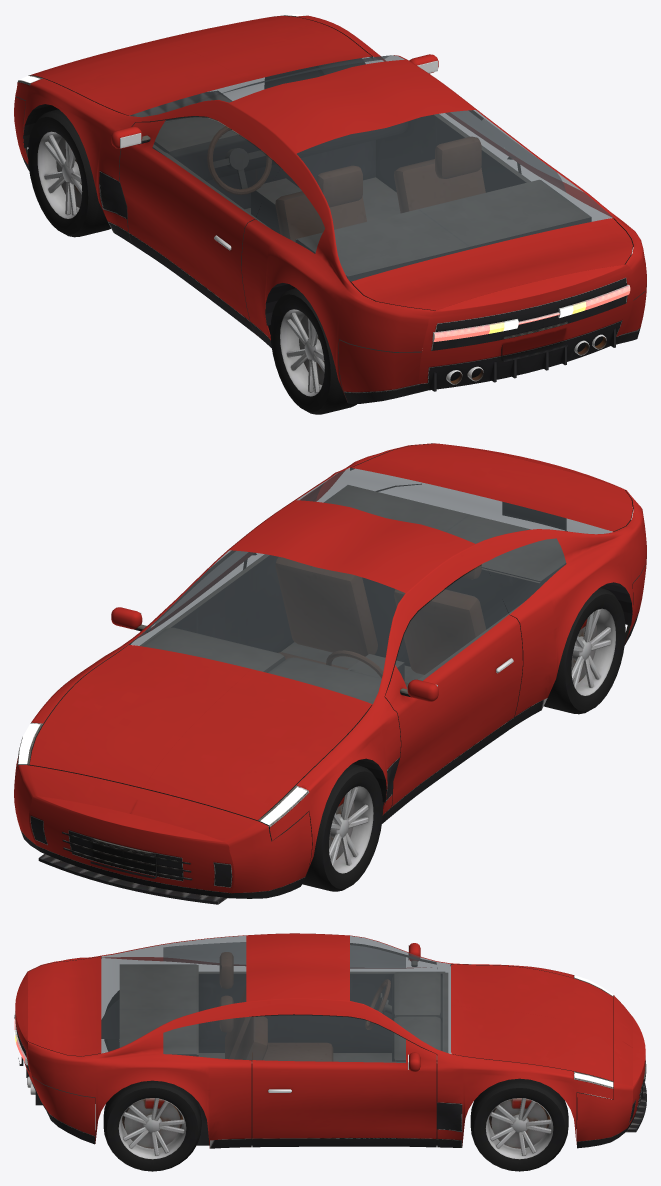
Rendered from sports_coupe.glb.
3 views of the same model, one above another, from view 1: azimuth 30°, elevation 25°; view 2: azimuth 150°, elevation 25°; view 3: azimuth 270°, elevation 25° (orthographic). The views are drawn at different scales.
Parts seen in each view (by area): view 1: lod0, window_rear, door_fl, hood, trunk, bumper_r, wheel_fl_mesh, wheel_rl_mesh, window_l, window_front, steering_wheel_mesh, bumper_f (+2 smaller); view 2: lod0, hood, bumper_f, window_front, door_fl, trunk, window_rear, wheel_fl_mesh, wheel_rl_mesh, window_l, door_fr, bumper_r; view 3: lod0, door_fr, hood, window_rear, window_front, wheel_fr, trunk, wheel_rr, bumper_f, window_r, bumper_r, door_fl (+2 smaller).
Part boxes in pixels (x1=…): lod0: x1=15, y1=14, x2=646, y2=402; window_rear: x1=297, y1=110, x2=612, y2=281; door_fl: x1=111, y1=116, x2=281, y2=333; hood: x1=30, y1=15, x2=371, y2=115; trunk: x1=351, y1=218, x2=632, y2=311; bumper_r: x1=339, y1=285, x2=646, y2=403; wheel_fl_mesh: x1=28, y1=109, x2=110, y2=237; wheel_rl_mesh: x1=270, y1=288, x2=356, y2=414; window_l: x1=255, y1=168, x2=324, y2=253; window_front: x1=130, y1=55, x2=404, y2=117; steering_wheel_mesh: x1=207, y1=126, x2=271, y2=194; bumper_f: x1=14, y1=91, x2=231, y2=170; lod0: x1=15, y1=443, x2=646, y2=881; hood: x1=29, y1=645, x2=372, y2=820; bumper_f: x1=14, y1=765, x2=311, y2=904; window_front: x1=129, y1=550, x2=405, y2=703; door_fl: x1=384, y1=564, x2=522, y2=818; trunk: x1=351, y1=443, x2=632, y2=531; window_rear: x1=297, y1=468, x2=612, y2=543; wheel_fl_mesh: x1=302, y1=763, x2=382, y2=891; wheel_rl_mesh: x1=544, y1=587, x2=625, y2=714; window_l: x1=484, y1=538, x2=566, y2=614; door_fr: x1=111, y1=550, x2=253, y2=644; bumper_r: x1=376, y1=484, x2=646, y2=645; lod0: x1=14, y1=933, x2=613, y2=1148; door_fr: x1=252, y1=1015, x2=436, y2=1147; hood: x1=451, y1=964, x2=613, y2=1081; window_rear: x1=101, y1=935, x2=246, y2=1053; window_front: x1=350, y1=936, x2=450, y2=1053; wheel_fr: x1=470, y1=1078, x2=568, y2=1171; trunk: x1=15, y1=956, x2=101, y2=1056; wheel_rr: x1=103, y1=1080, x2=201, y2=1171; bumper_f: x1=576, y1=995, x2=646, y2=1148; window_r: x1=163, y1=1016, x2=251, y2=1059; bumper_r: x1=18, y1=1057, x2=95, y2=1144; door_fl: x1=350, y1=943, x2=436, y2=968.
Size of what is drawn, in the model's own units: 2.02 by 1.24 by 4.52.
9 materials, 8 textured.
